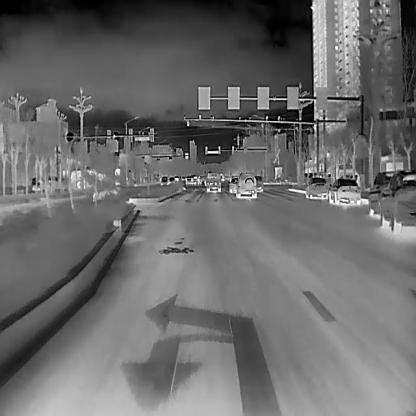bus: (69, 167, 118, 190)
car: (378, 168, 415, 233), (368, 171, 395, 213), (328, 177, 360, 203), (235, 171, 256, 195), (304, 176, 327, 197), (228, 174, 240, 191), (254, 176, 262, 190), (158, 175, 168, 185), (183, 175, 193, 185)
truck: (204, 172, 219, 190)
